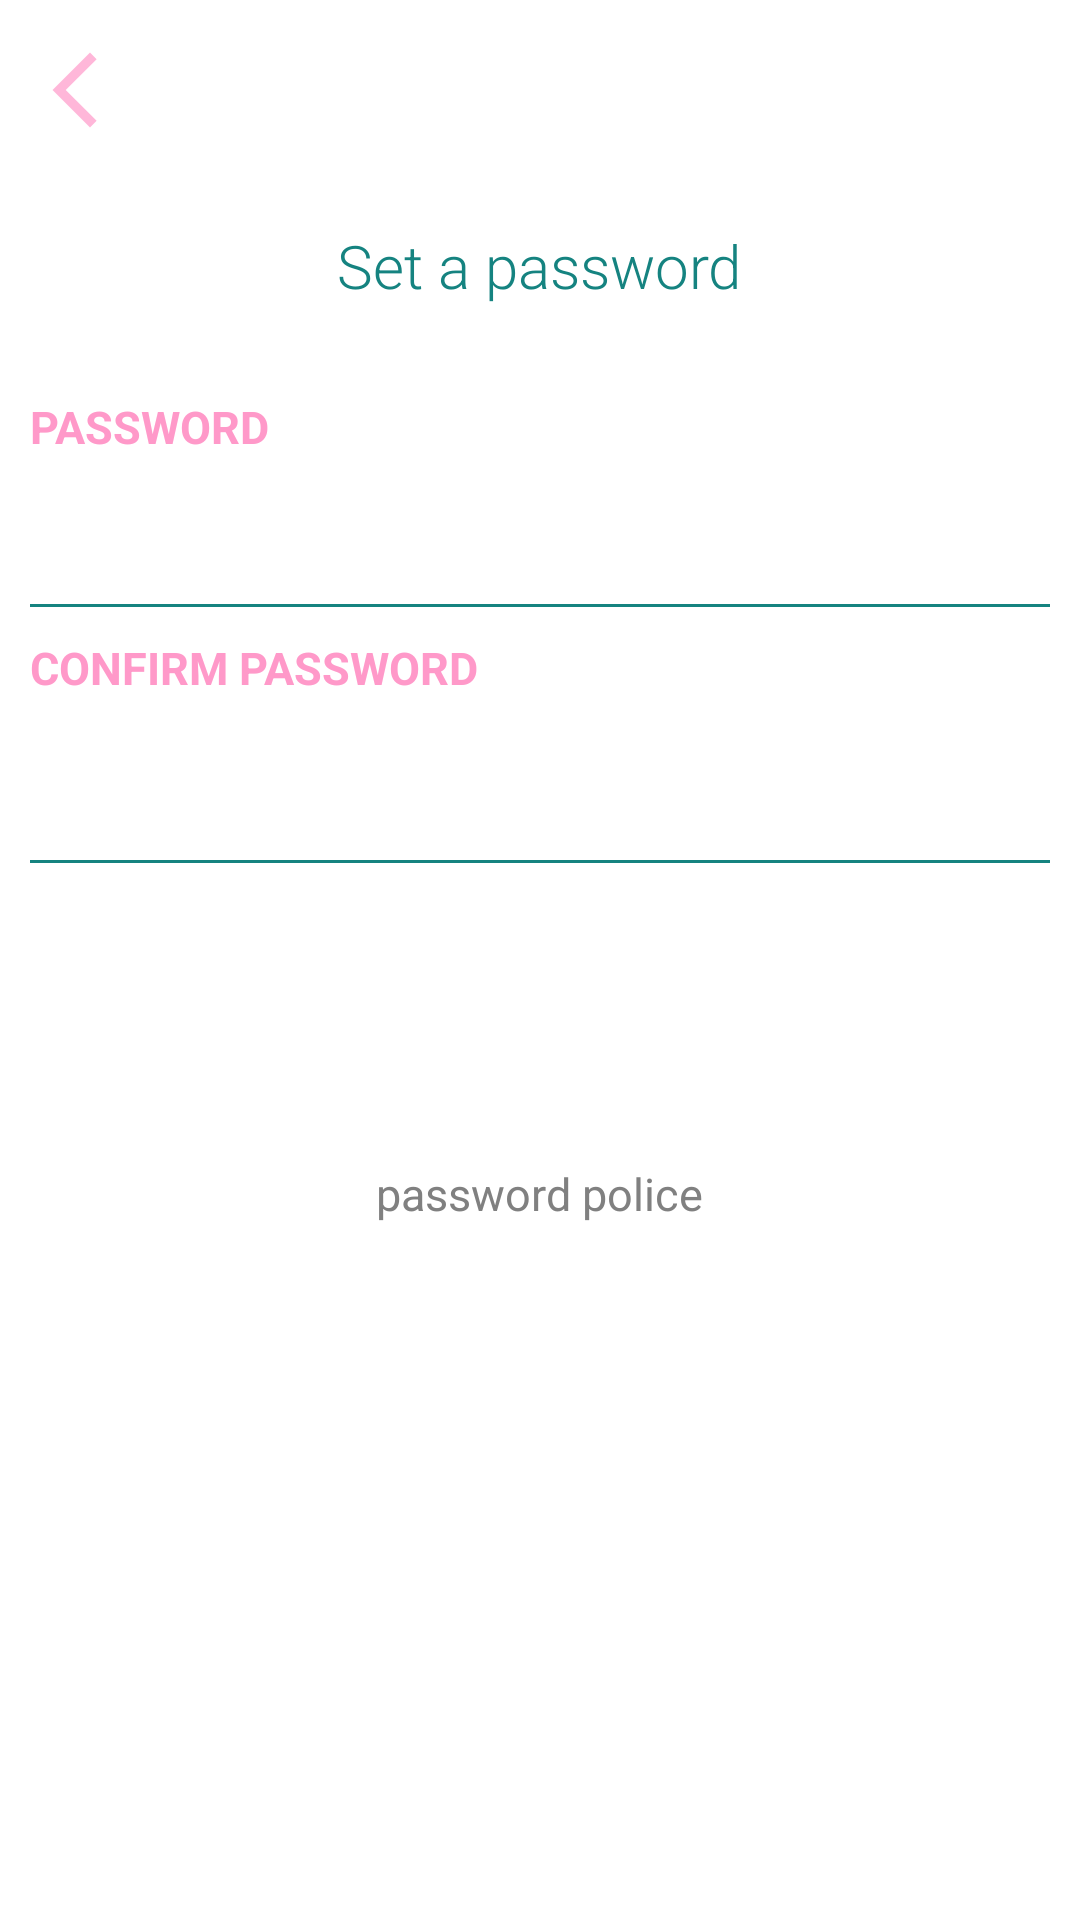

Where icons sit on this 1080x1920 app screen, as bbox=[x1, y1, x2, y2]:
back: bbox=[53, 53, 96, 127]
